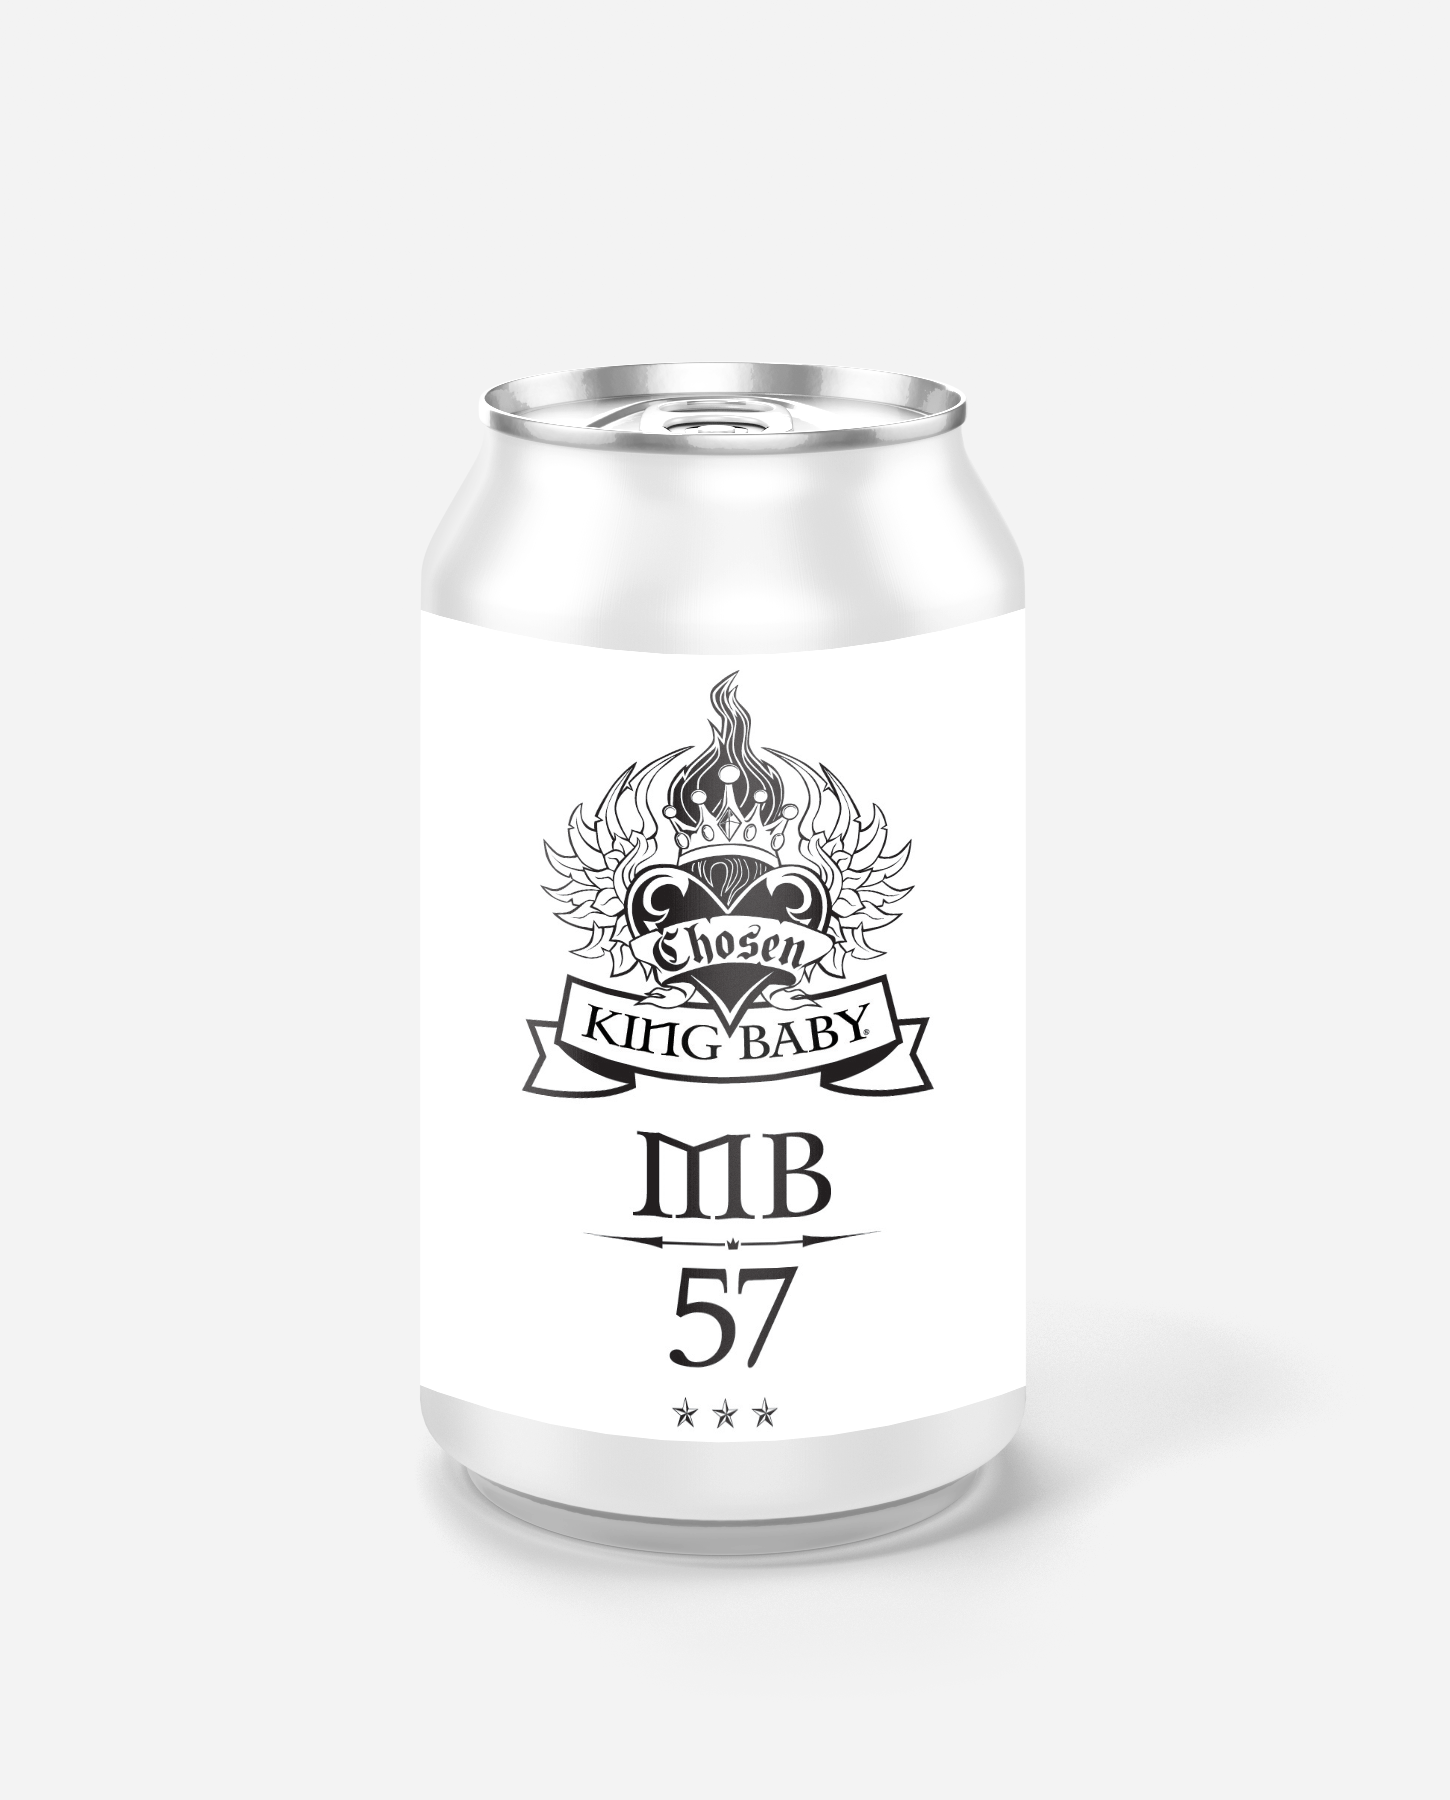beer can: (413, 351, 1031, 1541)
